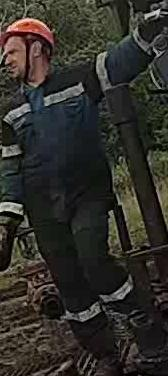gloves: (0, 202, 24, 272), (126, 14, 165, 55)
helmet: (0, 17, 55, 56)
vest: (0, 76, 109, 203)
